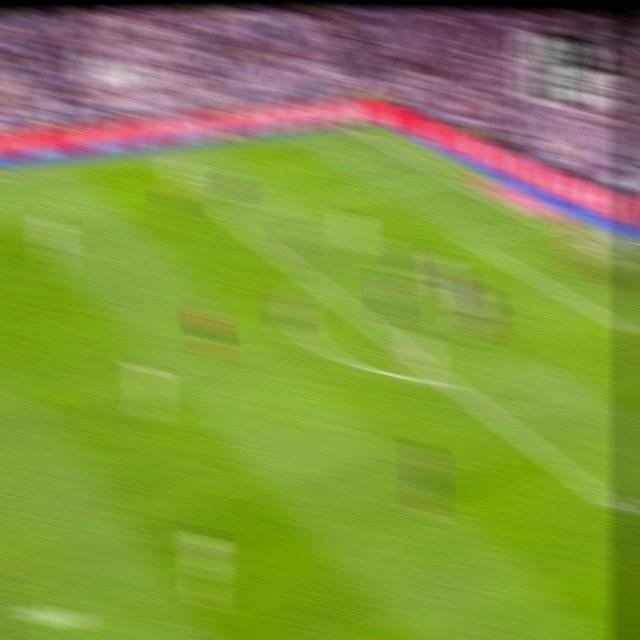bigarea_bottom_inner: (605, 493, 635, 529)
bigarea_top_inner: (215, 204, 241, 226)
bigarea_top_outter: (437, 168, 458, 184)
corner: (345, 123, 367, 134)
smallarea_top_inner: (458, 229, 479, 249)
top_arc_area_intersection: (302, 268, 326, 292)
